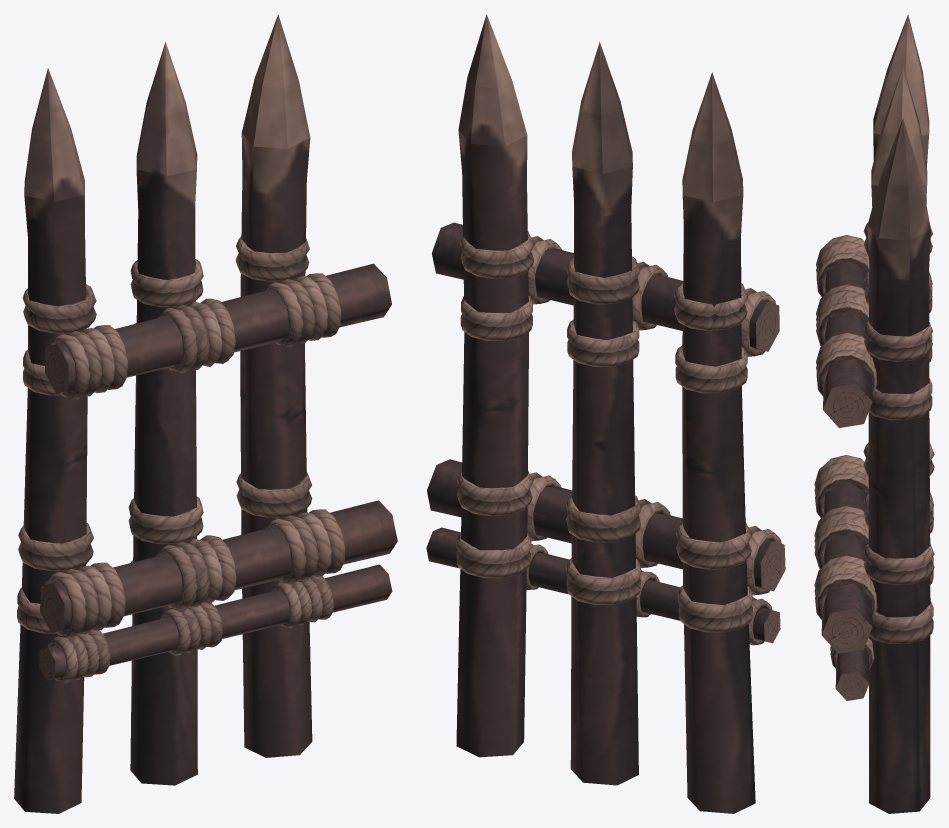
Rendered from WoodFence_b.FBX.
3 renders of one model, left to right at view 1: azimuth 30°, elevation 25°; view 2: azimuth 150°, elevation 25°; view 3: azimuth 270°, elevation 25°, orthographic. The views are drawn at different scales.
Visible parts, largest first — view 1: Cylinder021; view 2: Cylinder021; view 3: Cylinder021.
Part boxes in pixels (bbox=[...]): Cylinder021: bbox=[14, 14, 397, 813]; Cylinder021: bbox=[426, 14, 785, 813]; Cylinder021: bbox=[814, 14, 934, 813].
Size of the model in its own units: 2.39 by 4.91 by 0.7826.
1 material, 1 textured.
